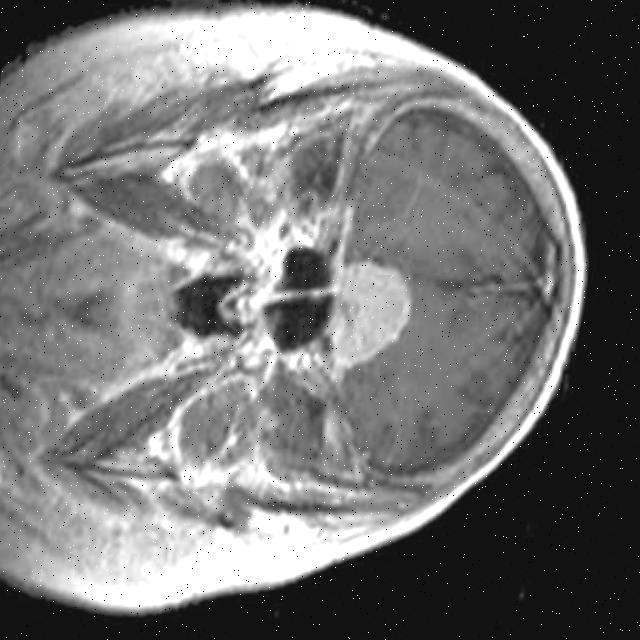Meningioma: (324, 256, 414, 368)
